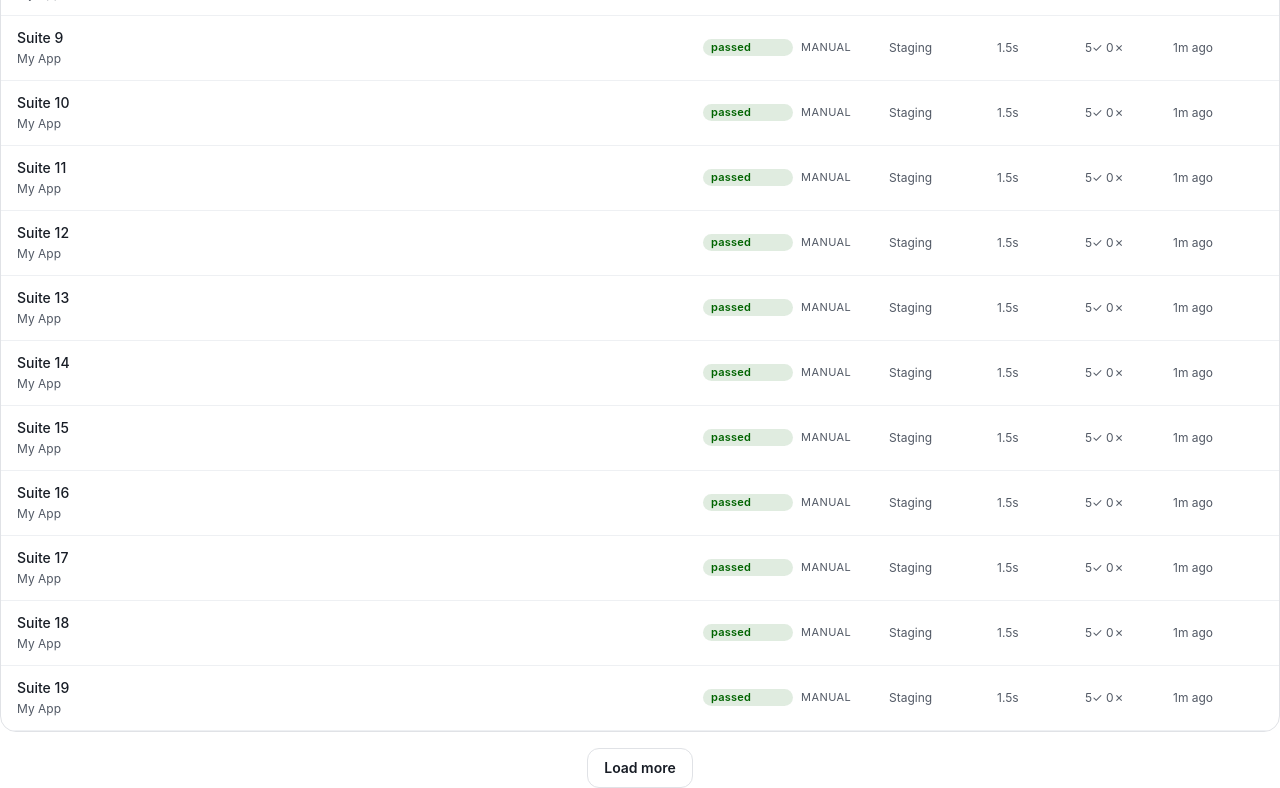
RunsList › loads more runs when clicking load more
(page scrolled)
Check: the text "Suite 19" is shown, box [17,678,69,696]
Check: the text "Suite 20" is not shown
Click the button "Load more" at (640, 768), box [587,748,693,787]
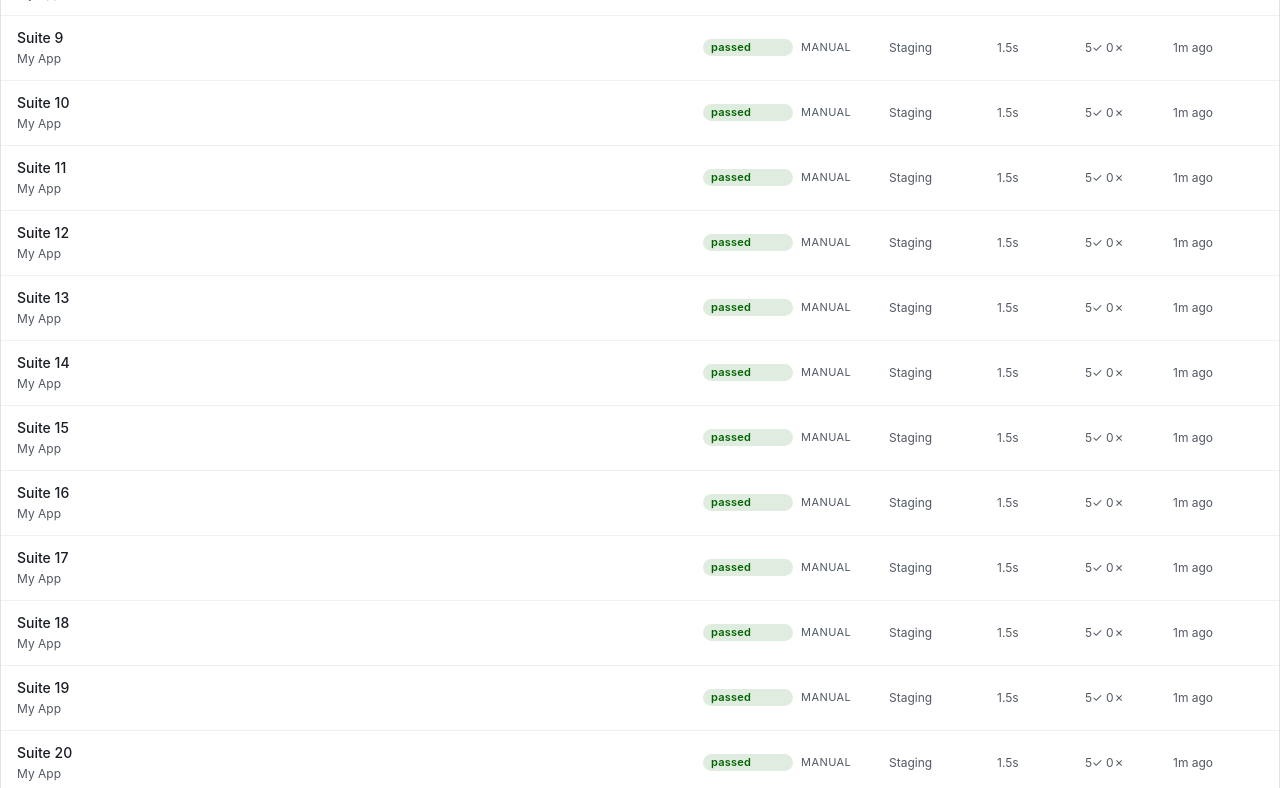
Check: the text "Suite 20" is shown, box [17,744,72,760]
